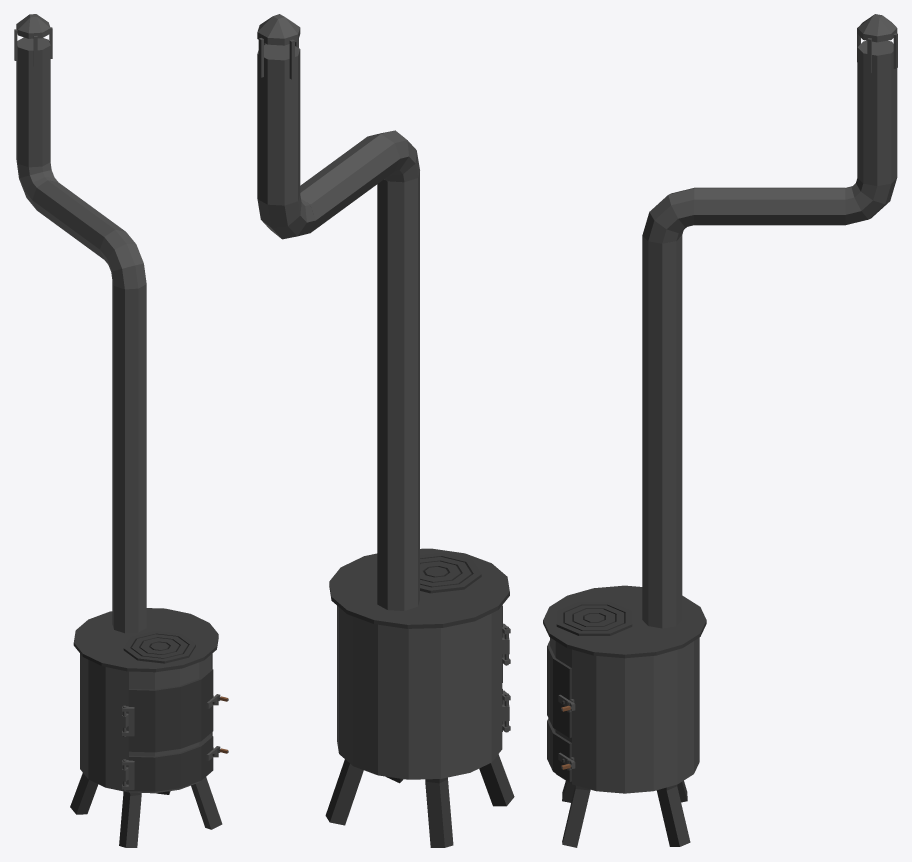
Rendered from stove.fbx.
3 renders of one model, left to right at view 1: azimuth 30°, elevation 25°; view 2: azimuth 150°, elevation 25°; view 3: azimuth 270°, elevation 25°, orthographic. The views are drawn at different scales.
Parts seen in each view (by area): view 1: Циліндр, Циліндр.020, Циліндр.014, Циліндр.001, Циліндр.019, Циліндр.013, Циліндр.002, Циліндр.015, Циліндр.017, Циліндр.016, Циліндр.018; view 2: Циліндр, Циліндр.020, Циліндр.014, Циліндр.019, Циліндр.013, Циліндр.015, Циліндр.016, Циліндр.018, Циліндр.017; view 3: Циліндр, Циліндр.020, Циліндр.014, Циліндр.013, Циліндр.019, Циліндр.015, Циліндр.016, Циліндр.017, Циліндр.001, Циліндр.018, Циліндр.002.
Boxes of the visible parts, <box> form: Циліндр: <box>73,608,218,793</box>; Циліндр.020: <box>112,403,146,633</box>; Циліндр.014: <box>14,14,52,167</box>; Циліндр.001: <box>128,669,213,752</box>; Циліндр.019: <box>112,281,146,411</box>; Циліндр.013: <box>32,180,125,259</box>; Циліндр.002: <box>128,736,213,791</box>; Циліндр.015: <box>70,773,222,847</box>; Циліндр.017: <box>100,229,146,289</box>; Циліндр.016: <box>123,631,195,663</box>; Циліндр.018: <box>16,159,57,208</box>; Циліндр: <box>329,548,509,779</box>; Циліндр.020: <box>377,324,419,610</box>; Циліндр.014: <box>257,14,300,205</box>; Циліндр.019: <box>377,172,419,334</box>; Циліндр.013: <box>300,134,399,232</box>; Циліндр.015: <box>325,754,514,847</box>; Циліндр.016: <box>420,552,481,593</box>; Циліндр.018: <box>257,195,315,239</box>; Циліндр.017: <box>369,130,419,182</box>; Циліндр: <box>543,585,706,793</box>; Циліндр.020: <box>642,373,682,628</box>; Циліндр.014: <box>857,14,897,185</box>; Циліндр.013: <box>694,187,845,225</box>; Циліндр.019: <box>642,235,682,380</box>; Циліндр.015: <box>562,780,690,847</box>; Циліндр.016: <box>556,601,632,635</box>; Циліндр.017: <box>642,188,694,243</box>; Циліндр.001: <box>547,640,571,737</box>; Циліндр.018: <box>845,178,896,225</box>; Циліндр.002: <box>547,718,571,781</box>.
Bounding box in the file's own units: 219 × 1192 × 474.
